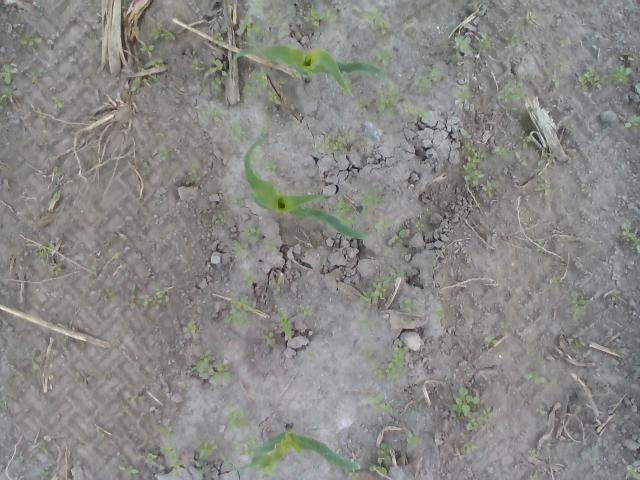Maize: (242, 138, 372, 244), (232, 44, 384, 98), (248, 420, 362, 472)
Weeds: (354, 78, 401, 122), (453, 386, 496, 432), (362, 340, 409, 381), (463, 142, 498, 192), (239, 68, 285, 105), (360, 270, 408, 304), (190, 350, 234, 386), (191, 56, 228, 96), (234, 223, 272, 256), (224, 296, 256, 328), (498, 79, 528, 112), (128, 288, 170, 310), (368, 439, 392, 474), (318, 130, 352, 153), (576, 66, 606, 92), (415, 63, 443, 89), (369, 220, 405, 240), (366, 6, 391, 34), (304, 8, 338, 28), (334, 194, 356, 224), (359, 192, 385, 216), (146, 22, 177, 42), (606, 64, 634, 86), (366, 392, 394, 414), (623, 220, 640, 255), (224, 406, 246, 432), (239, 16, 265, 38), (0, 63, 13, 106), (159, 447, 180, 472), (275, 311, 294, 338), (453, 80, 474, 104), (15, 30, 42, 48), (574, 298, 592, 322), (403, 102, 428, 118), (198, 440, 218, 460), (371, 46, 392, 65), (534, 178, 554, 196), (224, 458, 246, 473), (622, 462, 640, 480), (210, 208, 227, 226), (241, 438, 257, 456), (207, 104, 225, 120), (182, 320, 200, 336), (98, 287, 114, 304), (158, 144, 175, 160), (224, 126, 242, 141), (496, 145, 514, 160), (452, 35, 471, 49), (254, 0, 271, 15), (264, 158, 278, 176), (138, 40, 156, 54), (402, 296, 416, 314), (126, 392, 144, 406), (158, 424, 176, 438), (476, 32, 491, 48), (128, 78, 144, 93), (51, 94, 65, 111), (48, 260, 66, 273), (510, 24, 520, 47), (514, 150, 528, 166), (528, 373, 546, 385), (32, 351, 41, 375), (625, 114, 640, 128), (190, 168, 203, 184), (243, 271, 255, 288), (545, 276, 562, 288), (143, 58, 163, 68), (463, 443, 481, 454), (144, 450, 157, 465), (344, 79, 354, 97), (32, 468, 50, 478), (33, 246, 49, 257), (262, 331, 274, 345), (126, 466, 142, 476), (520, 136, 531, 150), (574, 338, 586, 350), (566, 148, 577, 161), (212, 31, 225, 42), (302, 304, 312, 318), (486, 335, 499, 345), (272, 280, 282, 293), (434, 307, 444, 320), (52, 166, 63, 177), (150, 74, 162, 84), (406, 436, 416, 448), (143, 160, 150, 177), (355, 320, 368, 329), (288, 70, 302, 78), (559, 63, 570, 73), (31, 70, 40, 80), (111, 252, 122, 260), (416, 223, 424, 232), (538, 160, 546, 169), (527, 16, 540, 21), (294, 448, 302, 456), (552, 80, 560, 88), (88, 266, 96, 273), (304, 0, 310, 9), (222, 23, 228, 31), (0, 400, 5, 408)
